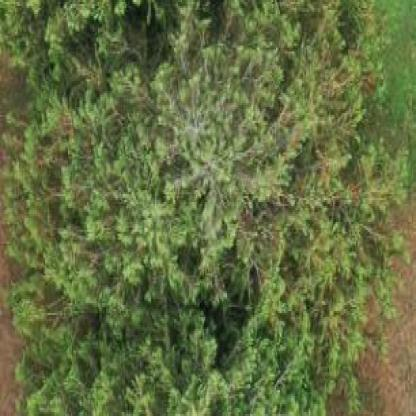Coniferous Tree: (0, 4, 406, 416)
